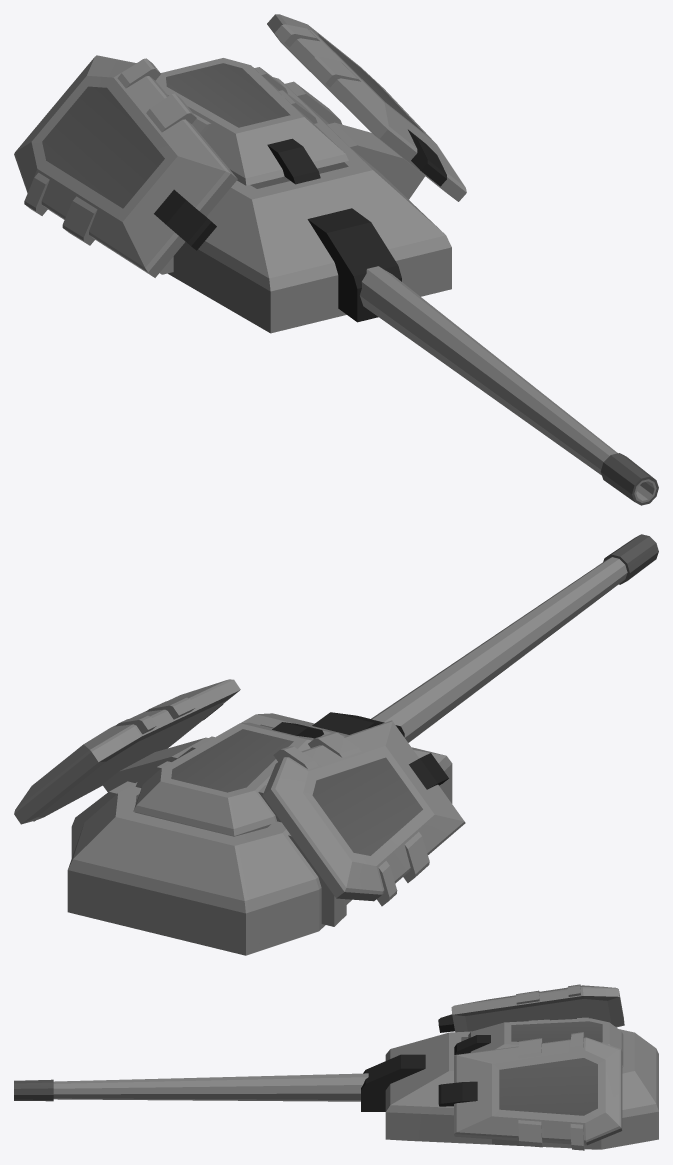
File: model_polyfleet_battleship_canon04.fbx
3 views of the same model, one above another, from view 1: azimuth 30°, elevation 25°; view 2: azimuth 150°, elevation 25°; view 3: azimuth 270°, elevation 25° (orthographic). The views are drawn at different scales.
Parts seen in each view (by area): view 1: model_cannon04, model_cannon_small_barrels; view 2: model_cannon04, model_cannon_small_barrels; view 3: model_cannon04, model_cannon_small_barrels.
Boxes of the visible parts, x1=… form: model_cannon04: x1=14, y1=14, x2=466, y2=333; model_cannon_small_barrels: x1=360, y1=266, x2=658, y2=505; model_cannon04: x1=14, y1=679, x2=465, y2=955; model_cannon_small_barrels: x1=371, y1=534, x2=658, y2=742; model_cannon04: x1=361, y1=984, x2=658, y2=1150; model_cannon_small_barrels: x1=14, y1=1073, x2=368, y2=1101.
Bounding box in the file's own units: 365 × 156 × 844.
